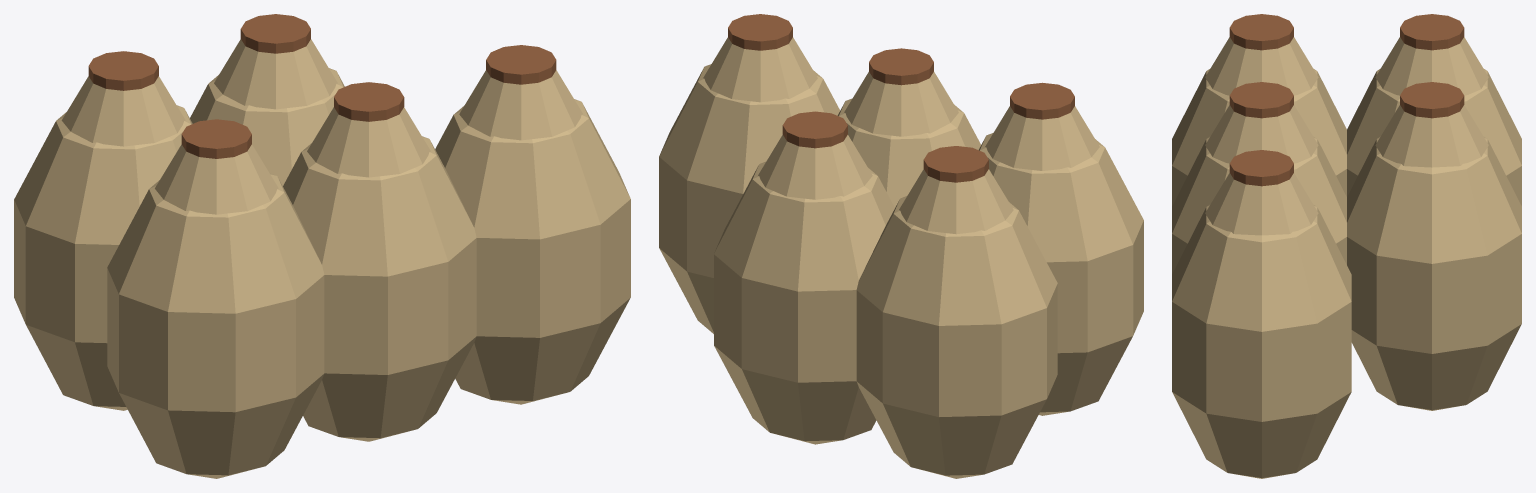
The model's file is 056_jute_sack_stack.glb.
3 views of the same model, side by side, from view 1: azimuth 30°, elevation 25°; view 2: azimuth 150°, elevation 25°; view 3: azimuth 270°, elevation 25° (orthographic). The views are drawn at different scales.
Visible parts, largest first — view 1: Jute sack stack; view 2: Jute sack stack; view 3: Jute sack stack.
Boxes of the visible parts, bbox=[...] form: Jute sack stack: bbox=[14, 14, 630, 478]; Jute sack stack: bbox=[659, 14, 1143, 478]; Jute sack stack: bbox=[1172, 14, 1521, 478].
Bounding box in the file's own units: 1.12 × 0.736 × 0.7399.
